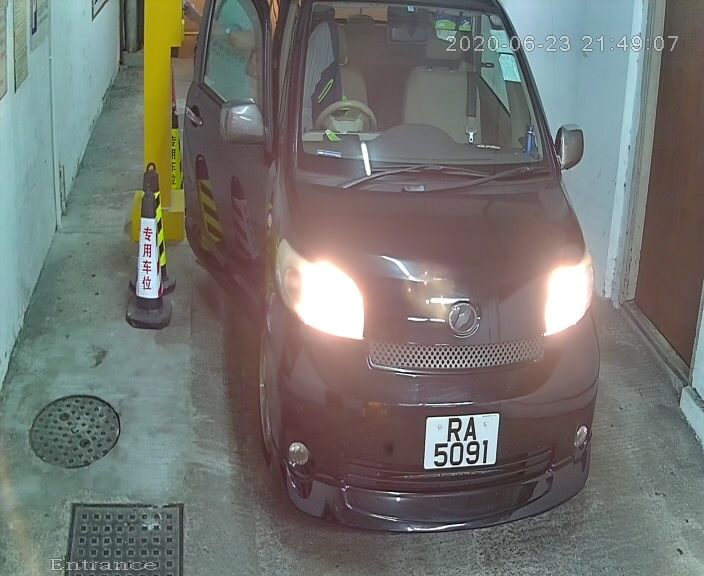privatecar: (174, 2, 606, 554)
